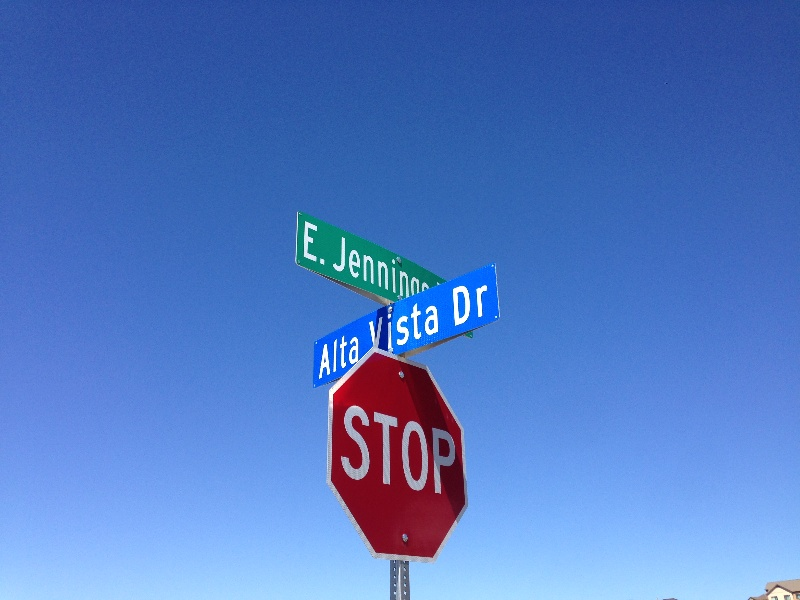stop sign: (320, 345, 475, 567)
